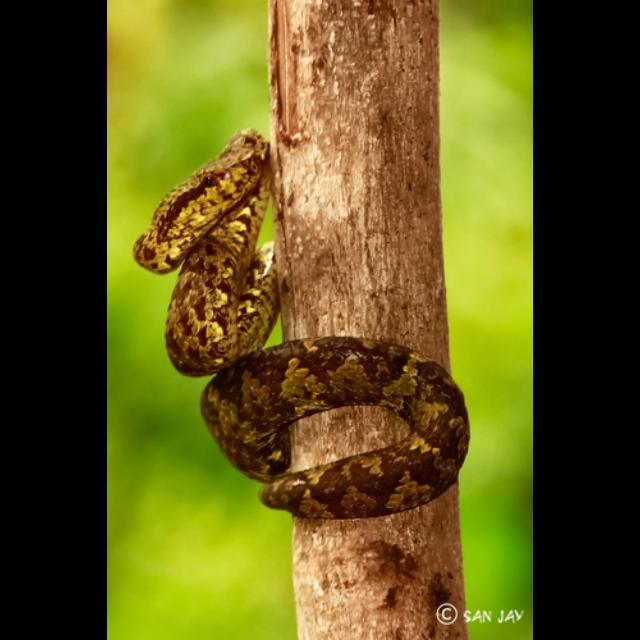snake: (132, 118, 482, 528)
